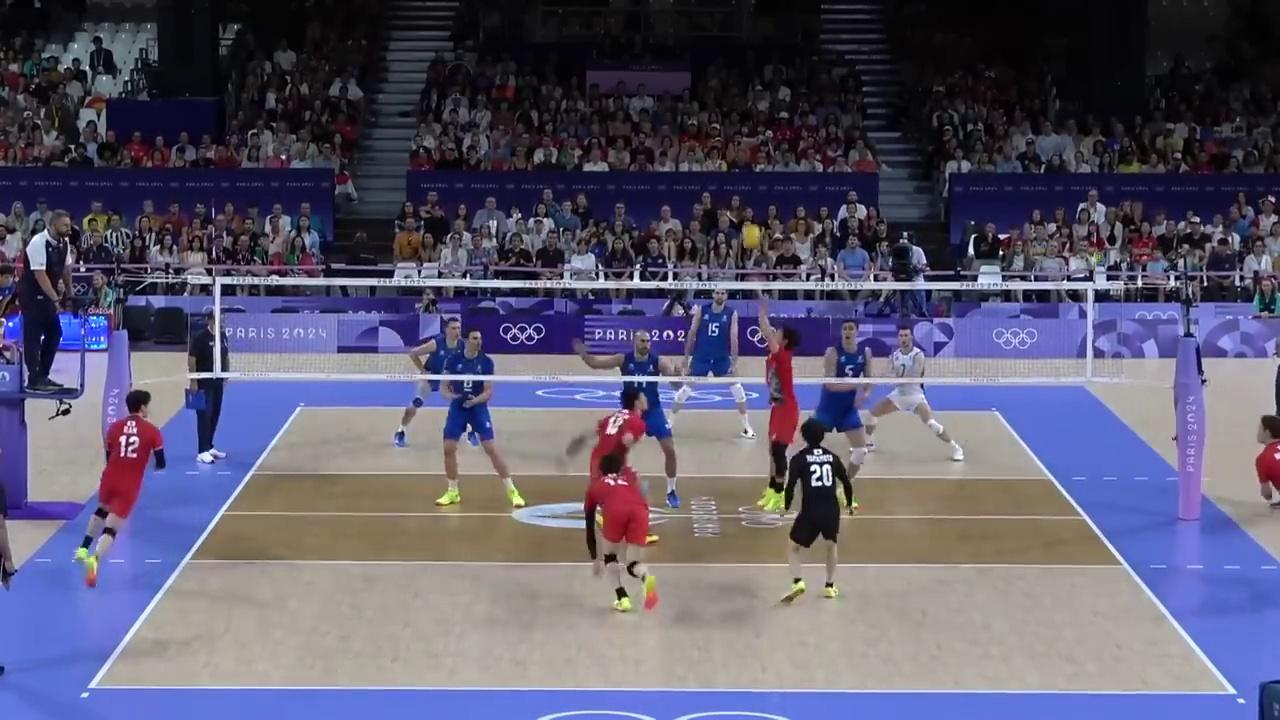ball: (742, 225, 762, 251)
